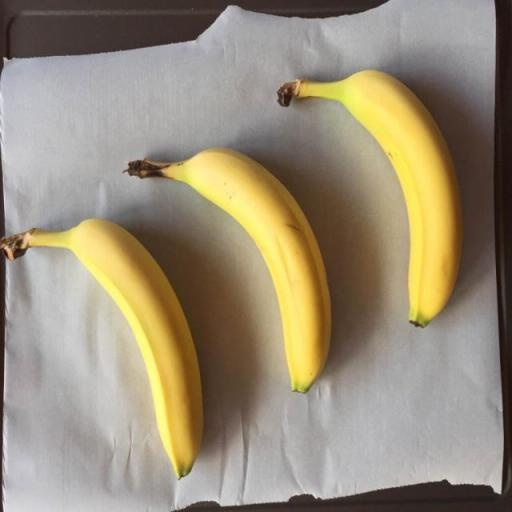fruit: (26, 231, 358, 512), (226, 166, 428, 512), (432, 116, 490, 406)
